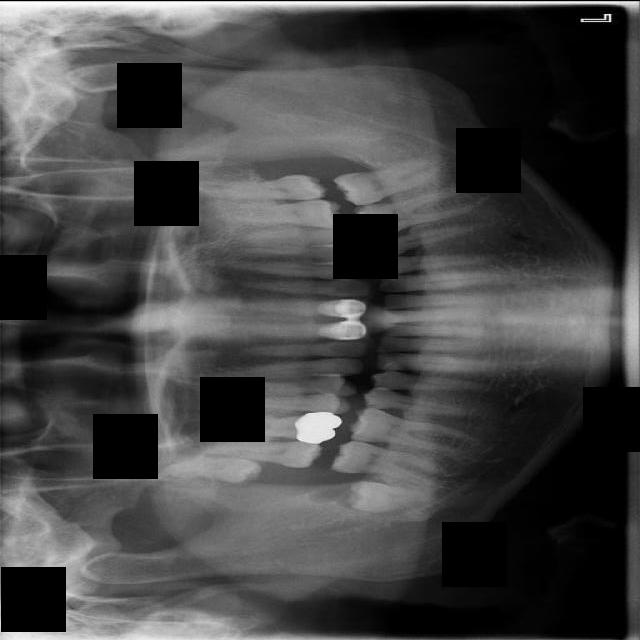3M ESPE Implant: (163, 452, 264, 485)
52: (316, 299, 375, 340), (290, 410, 342, 444)
BioHorizons Implant: (206, 172, 329, 205)
Blue Sky Bio Implant: (332, 154, 446, 209)
Caries: (201, 439, 322, 469)
Implant: (329, 435, 445, 488)
Keystone Dental Implant: (346, 477, 435, 524)
